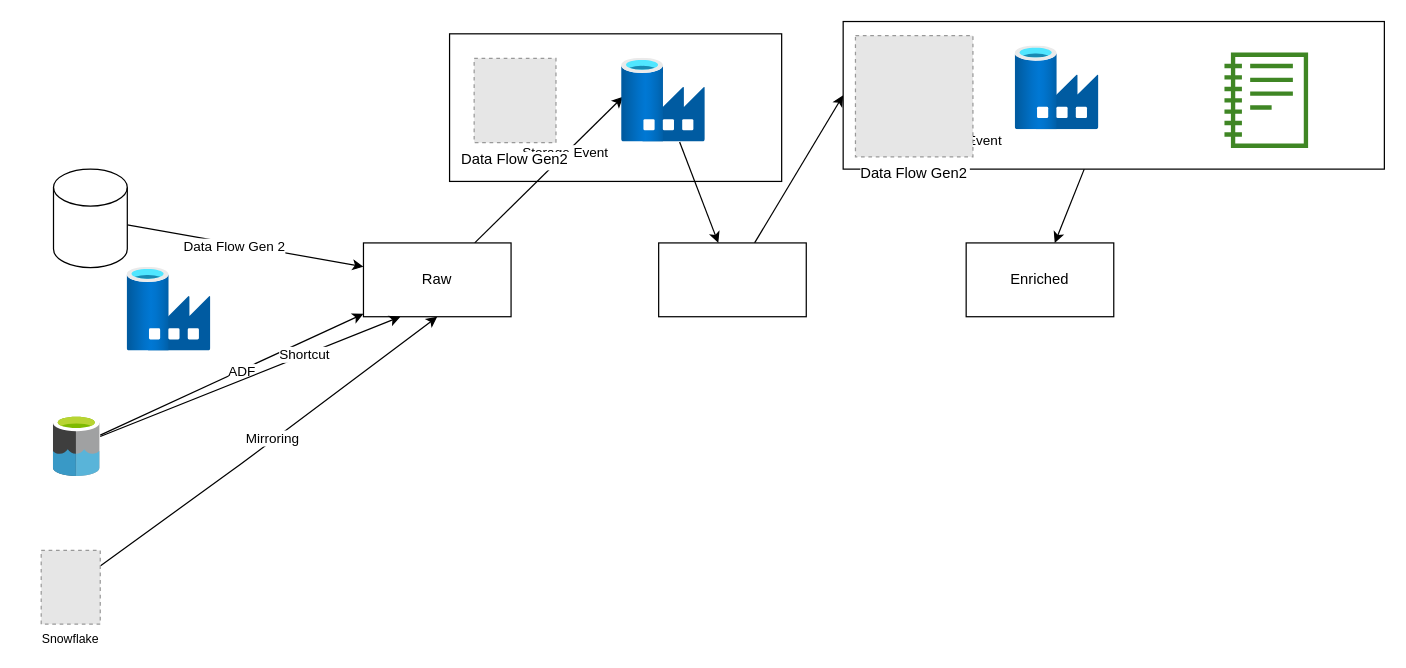
Some shapes in this 1406 by 668 pixel diagram are drawn without their labels. Grey dashed boxes stand in for pictures. Here are the shapes that lost their labels. From the top down, the centre of each, then its label:
At pixel 89 218: "SQL DB".
At pixel 731 279: "Curated".
At pixel 76 445: "Data Lake Gen 2".
